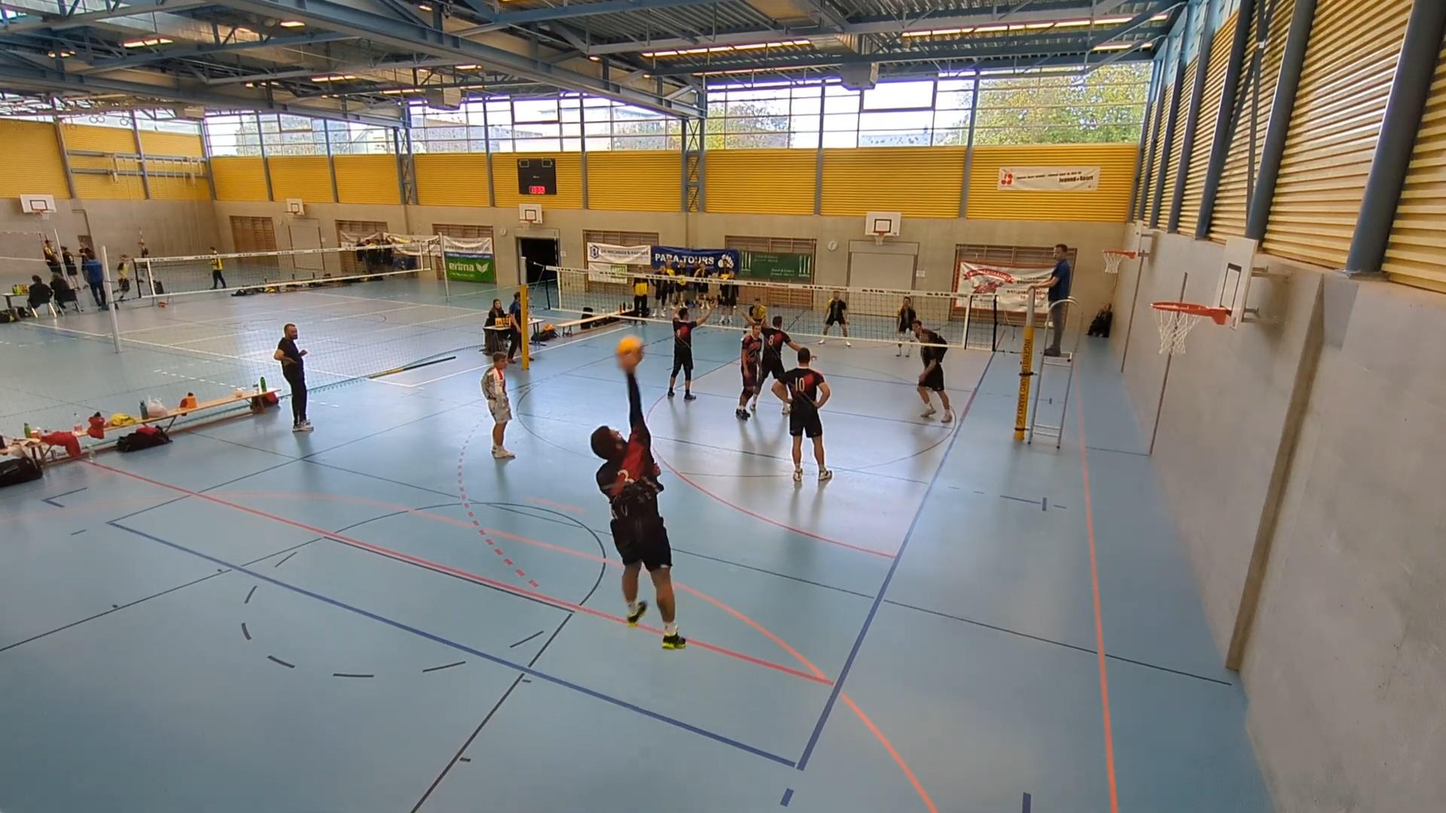Player: (773, 348, 831, 482), (752, 315, 800, 411), (912, 318, 953, 422), (667, 307, 710, 400), (481, 352, 514, 458), (735, 321, 762, 419), (818, 291, 850, 346), (896, 296, 917, 357), (745, 297, 767, 326)
Serve: (586, 363, 693, 654)
ball: (615, 338, 646, 368)
